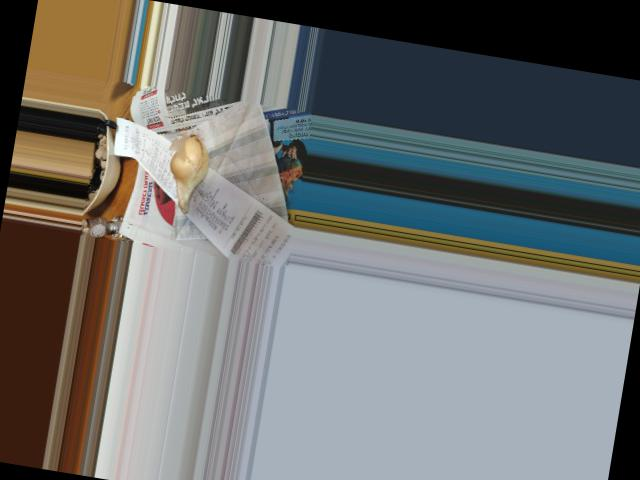onion: (163, 130, 212, 201)
